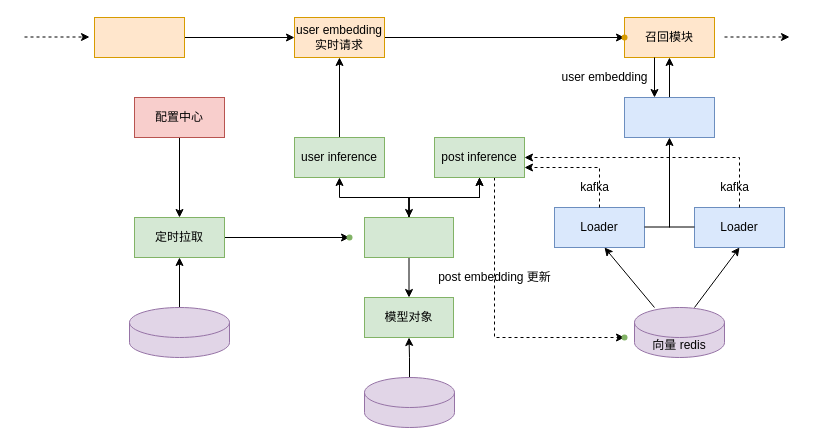
The diagram is 815 pixels wide and 445 high, and some of its shapes have lost their labels. The shapes that lost their labels are listed below. From the top down, each one's centre as x and y in pixels, then its label:
the point at 139,37: 广场请求
the point at 669,117: 向量检索
the point at 409,237: 模型更新、匹配
the point at 179,332: HDFS
the point at 409,402: 特征 redis
